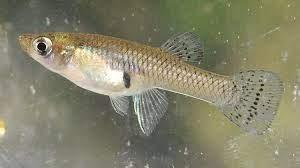Mosquito Fish: (18, 29, 284, 138)
